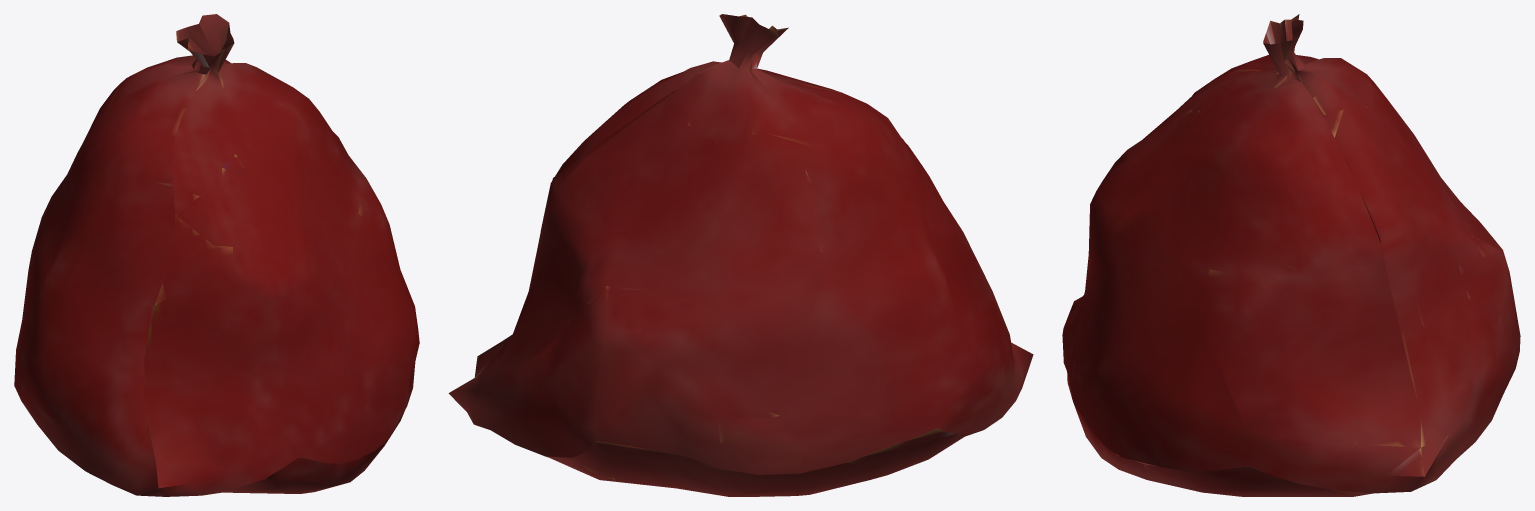
The model's file is Trash2.fbx.
3 renders of one model, left to right at view 1: azimuth 30°, elevation 25°; view 2: azimuth 150°, elevation 25°; view 3: azimuth 270°, elevation 25°, orthographic. The views are drawn at different scales.
Parts seen in each view (by area): view 1: Trash2; view 2: Trash2; view 3: Trash2.
Part boxes in pixels (<box>): Trash2: <box>14,14,419,496</box>; Trash2: <box>448,14,1033,496</box>; Trash2: <box>1062,14,1520,496</box>.
Bounding box in the file's own units: 38.4 × 40.11 × 37.66.
